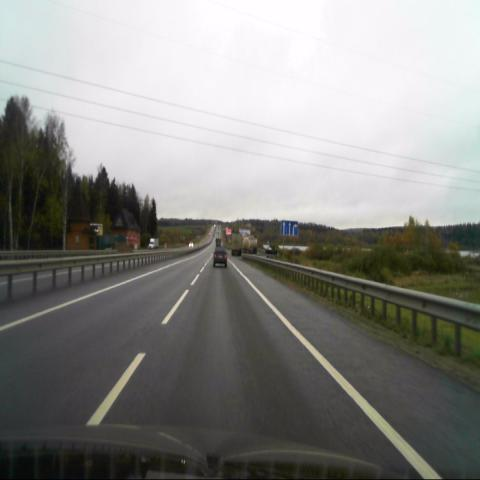5_15_1: (281, 220, 298, 235)
